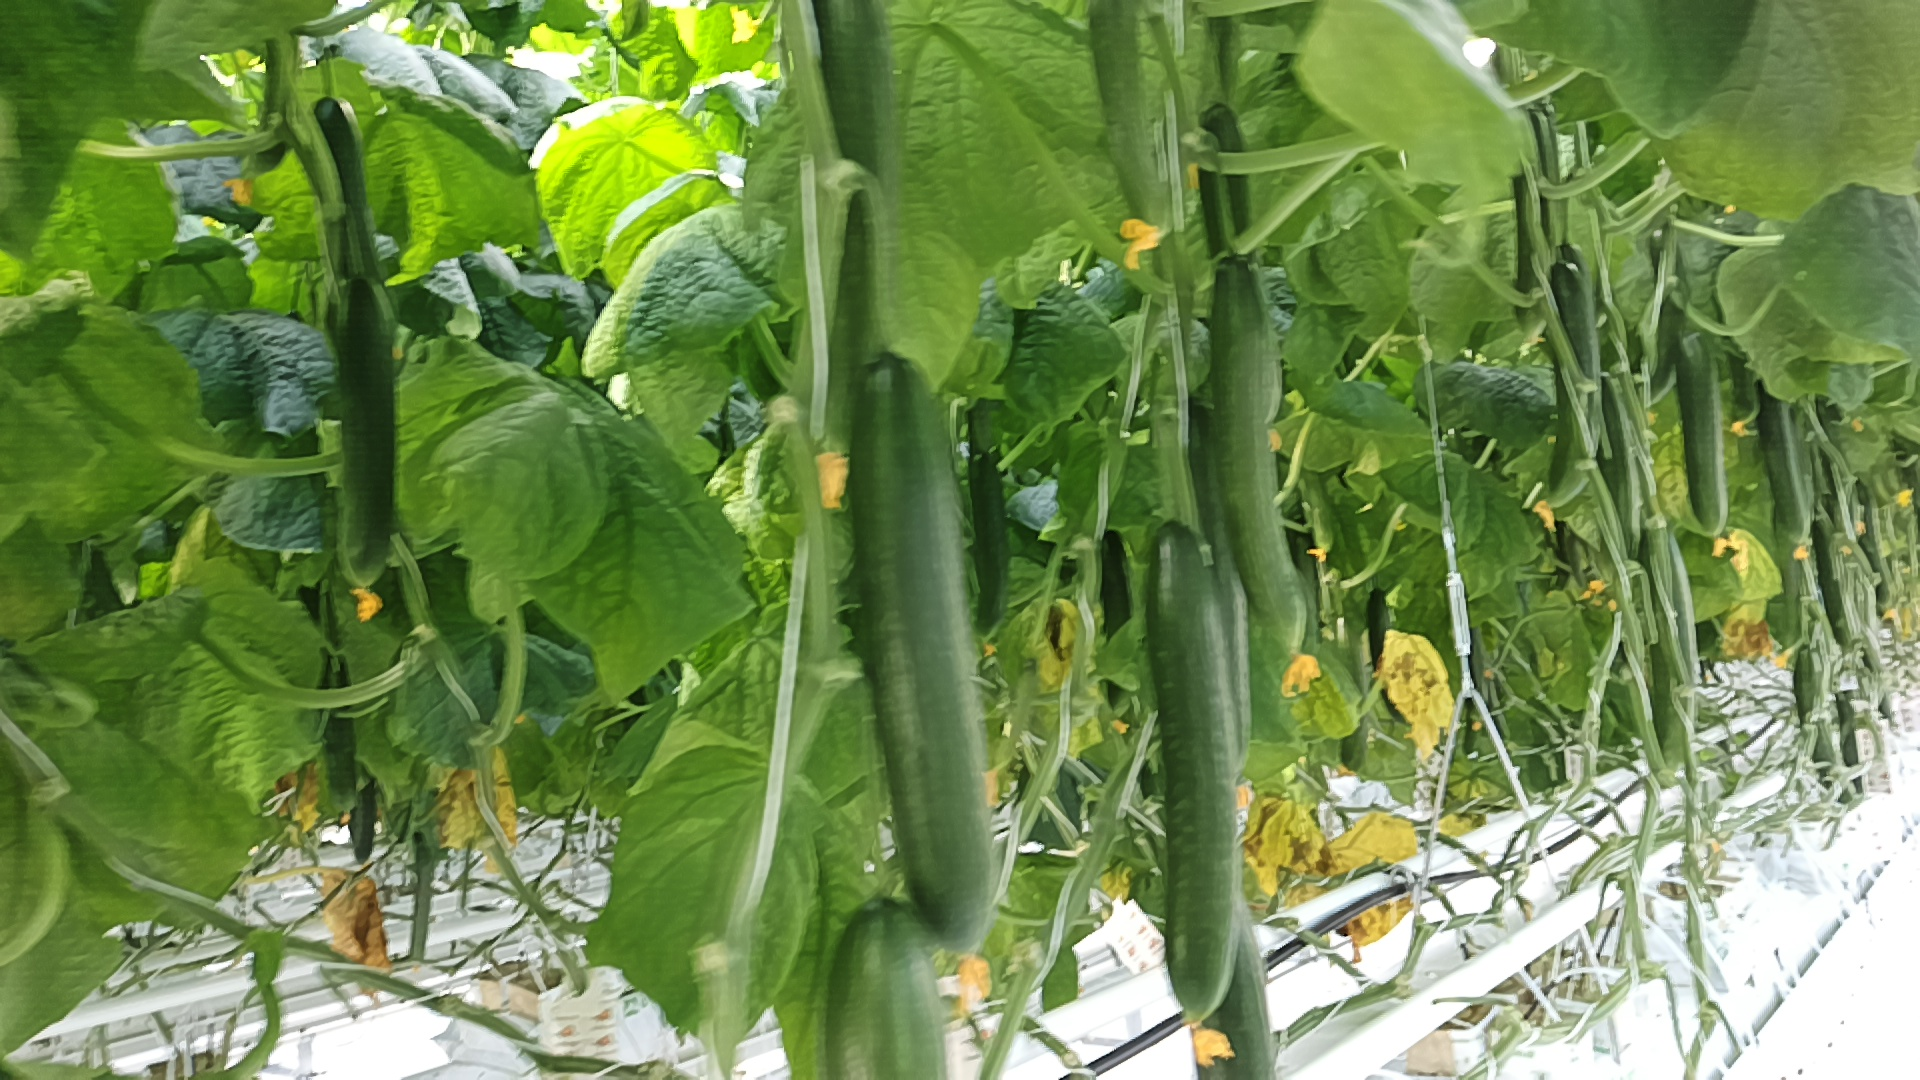gurka: (837, 351, 1011, 955), (1134, 501, 1246, 1025), (328, 270, 414, 604), (1665, 324, 1739, 542)
